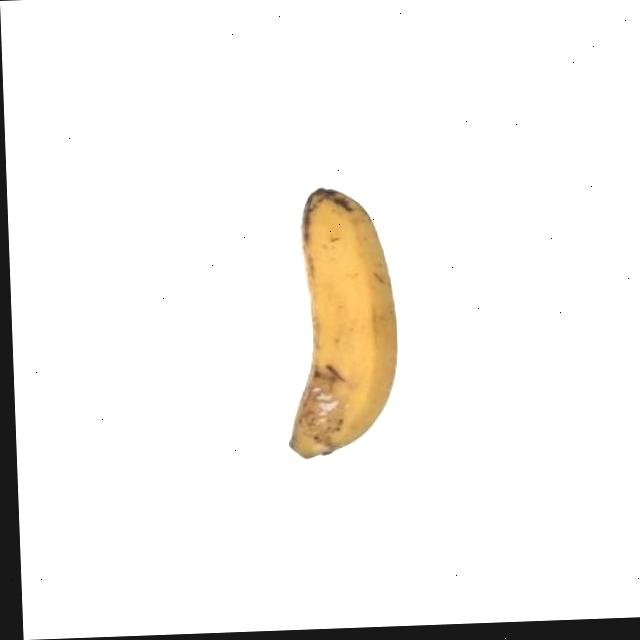banana: (273, 179, 408, 466)
